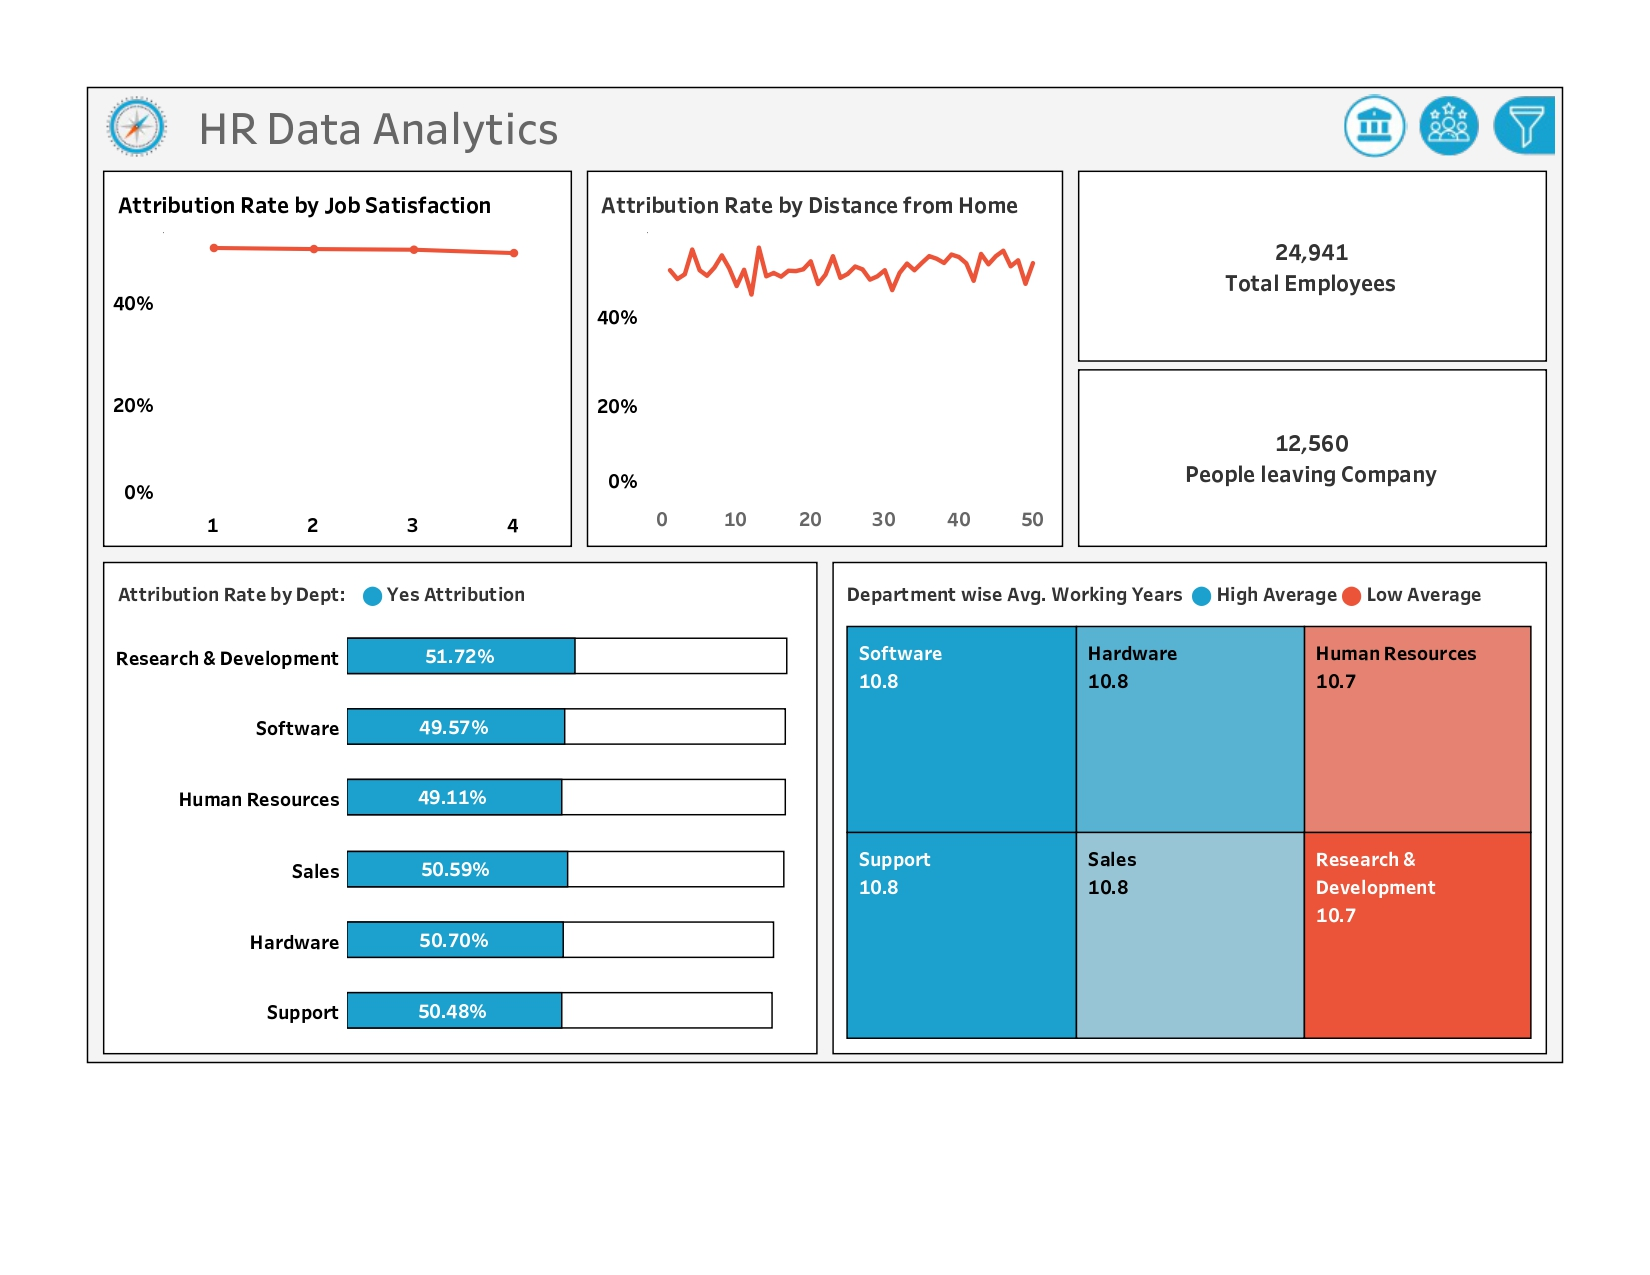

What the dashboard file says about the page in this screenshot:
{"tool":"tableau","page":{"name":"Report 1","canvas":[1020,680],"ordinal":0},"visuals":[{"type":"image","param":"Image/Icon - Logo.png","box":[9,9,68,51]},{"type":"text","box":[77,9,782,51]},{"type":"dashboard-object","box":[859,9,50.7,51]},{"type":"dashboard-object","box":[909.7,9,50.7,51]},{"type":"dashboard-object","box":[960.3,9,50.7,51]},{"type":"filter","title":"Job. Satisfaction","param":"[federated.0b553ce0a2or2e121jk1u0apz5j8].[none:EducationField:nk]","box":[17,13,208,164]},{"type":"worksheet","title":"Job. Satisfaction","mark":"Line","rows":["Calculation_104990190703656961"],"cols":["Job Satisfaction (bin)"],"box":[9,60,334,266]},{"type":"worksheet","title":"Distance","mark":"Line","rows":["Calculation_104990190703656961"],"cols":["DistanceFromHome"],"box":[343,60,334,266]},{"type":"worksheet","title":"Total Employee","mark":"Automatic","box":[677,60,334,138]},{"type":"filter","title":"Job. Satisfaction","param":"[federated.0b553ce0a2or2e121jk1u0apz5j8].[none:BusinessTravel:nk]","box":[17,177,208,164]},{"type":"worksheet","title":"Yes Attribution","mark":"Automatic","box":[677,198,334,128]},{"type":"worksheet","title":"Attribution Rate","mark":"Bar","rows":["Department"],"cols":["EmployeeCount","Calculation_104990190703243264"],"box":[9,326,501,345]},{"type":"worksheet","title":"Avg. Working Yrs at Department","mark":"Automatic","box":[510,326,501,345]},{"type":"filter","title":"Job. Satisfaction","param":"[federated.0b553ce0a2or2e121jk1u0apz5j8].[none:Gender:nk]","box":[17,341,208,163]},{"type":"filter","title":"Job. Satisfaction","param":"[federated.0b553ce0a2or2e121jk1u0apz5j8].[none:MaritalStatus:nk]","box":[17,504,208,163]}]}

Visuals, with their boxes on the page's 1020x680 design canvas (x1, y1, x2, y2). These are canvas units, not pixel positions in the 1650x1275 screenshot, which may show the page scaled, cropped or inside an application window:
image: bbox=(9, 9, 77, 60)
text: bbox=(77, 9, 859, 60)
dashboard-object: bbox=(859, 9, 910, 60)
dashboard-object: bbox=(910, 9, 960, 60)
dashboard-object: bbox=(960, 9, 1011, 60)
"Job. Satisfaction" filter: bbox=(17, 13, 225, 177)
"Job. Satisfaction" worksheet (Line marks): bbox=(9, 60, 343, 326)
"Distance" worksheet (Line marks): bbox=(343, 60, 677, 326)
"Total Employee" worksheet: bbox=(677, 60, 1011, 198)
"Job. Satisfaction" filter: bbox=(17, 177, 225, 341)
"Yes Attribution" worksheet: bbox=(677, 198, 1011, 326)
"Attribution Rate" worksheet (Bar marks): bbox=(9, 326, 510, 671)
"Avg. Working Yrs at Department" worksheet: bbox=(510, 326, 1011, 671)
"Job. Satisfaction" filter: bbox=(17, 341, 225, 504)
"Job. Satisfaction" filter: bbox=(17, 504, 225, 667)
